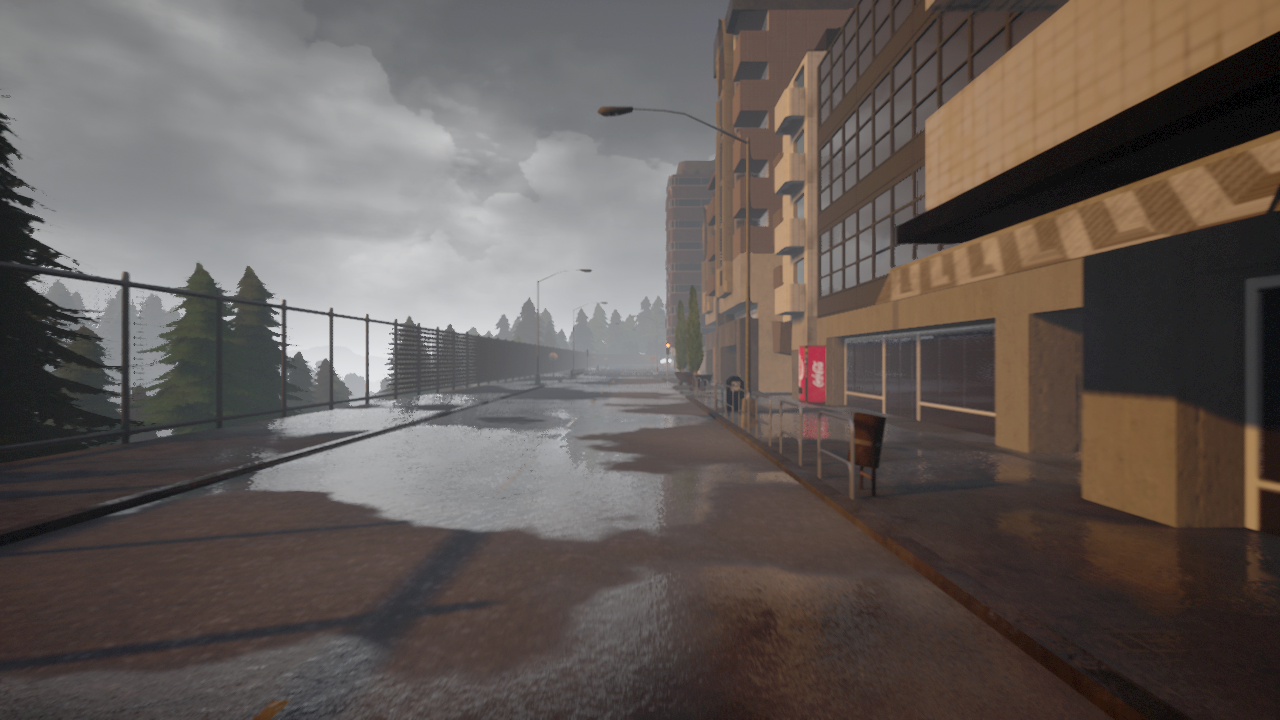red: (665, 342, 670, 357)
